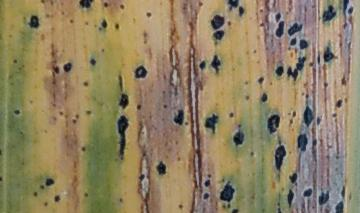tarspot: (117, 114, 128, 159), (287, 57, 305, 83), (274, 144, 287, 171), (220, 179, 235, 202), (204, 112, 218, 134), (302, 106, 314, 127), (268, 113, 280, 133), (232, 130, 245, 148), (211, 14, 225, 30), (287, 23, 303, 37), (210, 54, 221, 74), (322, 6, 336, 21), (27, 15, 40, 31), (275, 19, 285, 39), (317, 190, 330, 205), (173, 109, 184, 126), (134, 65, 147, 79), (297, 134, 307, 151), (323, 46, 333, 63), (212, 30, 226, 42), (286, 189, 294, 209), (78, 1, 95, 10), (119, 94, 129, 109), (156, 161, 166, 175), (298, 38, 309, 50), (226, 1, 239, 11), (62, 62, 73, 73), (335, 201, 344, 213), (289, 36, 298, 47), (275, 65, 284, 76), (303, 187, 312, 198), (288, 172, 297, 183), (260, 92, 268, 104), (144, 9, 153, 19), (13, 107, 22, 117), (201, 190, 210, 200), (198, 59, 206, 70), (274, 11, 281, 23), (335, 98, 342, 110), (340, 75, 347, 87), (53, 65, 61, 75), (315, 117, 323, 127), (342, 1, 349, 12), (238, 5, 244, 17), (45, 178, 54, 186), (53, 193, 61, 202), (135, 103, 143, 112), (276, 201, 282, 213), (287, 1, 293, 13), (322, 79, 329, 89), (143, 30, 148, 44), (90, 58, 97, 67), (101, 19, 108, 28), (258, 76, 265, 85), (243, 78, 250, 87), (348, 5, 354, 15), (102, 1, 109, 9), (113, 22, 120, 30), (84, 108, 92, 115), (70, 116, 77, 124), (138, 173, 145, 181), (288, 118, 294, 127), (308, 59, 314, 68), (342, 21, 348, 30), (228, 111, 235, 118), (119, 3, 126, 10), (82, 80, 90, 86), (341, 186, 345, 198), (330, 112, 338, 118), (317, 53, 321, 65), (176, 155, 182, 163), (292, 109, 297, 118), (312, 138, 317, 147), (231, 208, 240, 213), (32, 190, 38, 197), (303, 92, 310, 98), (12, 57, 18, 64), (74, 113, 81, 119), (58, 109, 64, 116), (83, 191, 89, 198), (205, 180, 211, 187), (249, 150, 255, 157), (252, 48, 258, 55), (197, 1, 203, 8), (264, 1, 270, 8), (227, 19, 232, 27), (177, 203, 182, 210), (245, 94, 250, 101), (259, 8, 266, 13), (39, 184, 45, 189), (162, 103, 168, 108), (259, 22, 264, 28), (68, 18, 74, 23), (52, 80, 58, 85), (100, 47, 105, 53), (84, 20, 89, 26), (44, 201, 48, 208), (82, 146, 86, 153), (227, 202, 231, 209), (207, 173, 212, 178), (61, 11, 66, 16), (119, 197, 123, 203), (222, 203, 226, 209), (162, 89, 166, 95), (237, 124, 242, 128), (269, 81, 273, 86), (1, 148, 3, 157), (40, 1, 46, 4), (1, 175, 3, 182)
